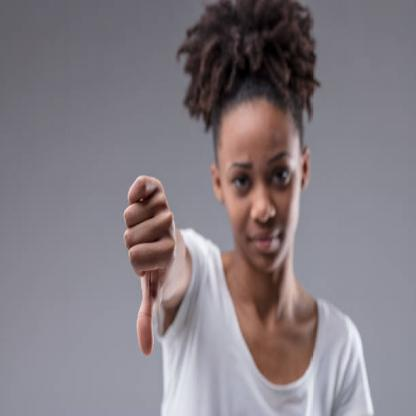thumb_down: (119, 169, 179, 358)
